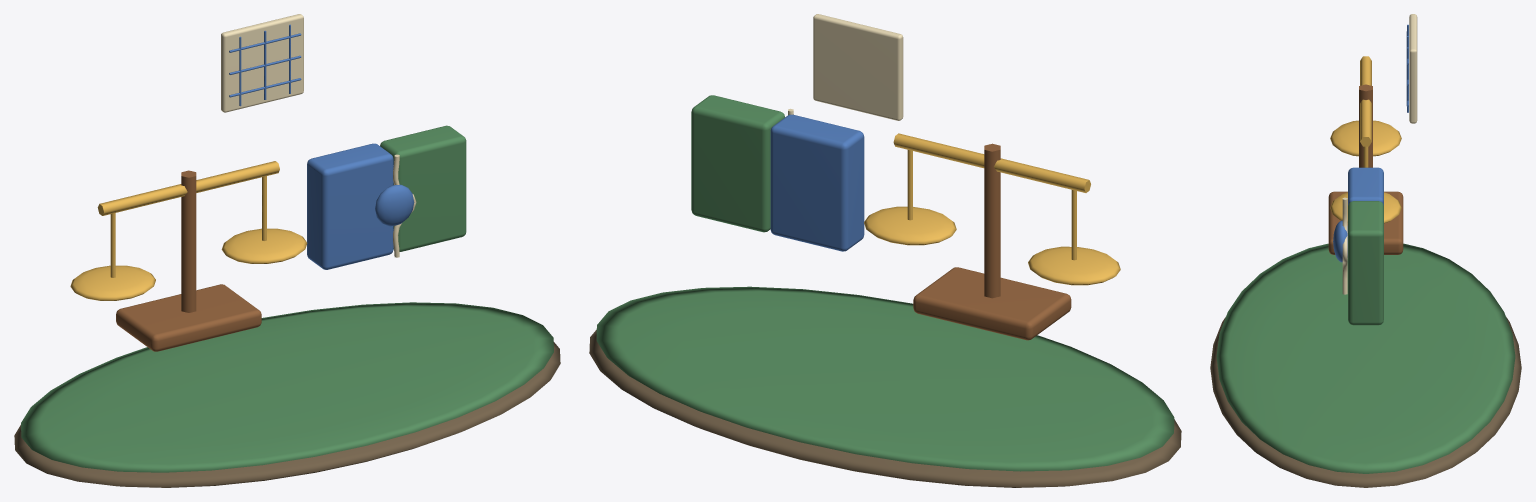
Rendered from complete-third-compared-example.glb.
The picture shows the model from 3 angles, left to right: view 1: azimuth 30°, elevation 25°; view 2: azimuth 150°, elevation 25°; view 3: azimuth 270°, elevation 25°; orthographic projection. The views are drawn at different scales.
Parts seen in each view (by area): view 1: complete-third-compared-example_surface_01, complete-third-compared-example_surface_04, complete-third-compared-example_surface_00, complete-third-compared-example_surface_02, complete-third-compared-example_surface_03, complete-third-compared-example_surface_05; view 2: complete-third-compared-example_surface_01, complete-third-compared-example_surface_04, complete-third-compared-example_surface_00, complete-third-compared-example_surface_02, complete-third-compared-example_surface_03, complete-third-compared-example_surface_05; view 3: complete-third-compared-example_surface_01, complete-third-compared-example_surface_00, complete-third-compared-example_surface_03, complete-third-compared-example_surface_04, complete-third-compared-example_surface_02, complete-third-compared-example_surface_05.
Part boxes in pixels (x1,y1,x2,y2): complete-third-compared-example_surface_01: [21, 125, 553, 472]; complete-third-compared-example_surface_04: [229, 24, 414, 269]; complete-third-compared-example_surface_00: [14, 342, 560, 487]; complete-third-compared-example_surface_02: [116, 170, 261, 351]; complete-third-compared-example_surface_03: [70, 161, 307, 300]; complete-third-compared-example_surface_05: [221, 14, 416, 257]; complete-third-compared-example_surface_01: [596, 95, 1174, 471]; complete-third-compared-example_surface_04: [770, 114, 864, 251]; complete-third-compared-example_surface_00: [589, 330, 1181, 487]; complete-third-compared-example_surface_02: [913, 143, 1071, 340]; complete-third-compared-example_surface_03: [864, 133, 1120, 285]; complete-third-compared-example_surface_05: [788, 14, 903, 120]; complete-third-compared-example_surface_01: [1216, 201, 1515, 473]; complete-third-compared-example_surface_00: [1210, 317, 1521, 487]; complete-third-compared-example_surface_03: [1330, 56, 1401, 223]; complete-third-compared-example_surface_04: [1333, 24, 1408, 262]; complete-third-compared-example_surface_02: [1328, 84, 1403, 254]; complete-third-compared-example_surface_05: [1342, 14, 1417, 294].
Bounding box in the file's own units: 4.56 × 3.11 × 2.5.
